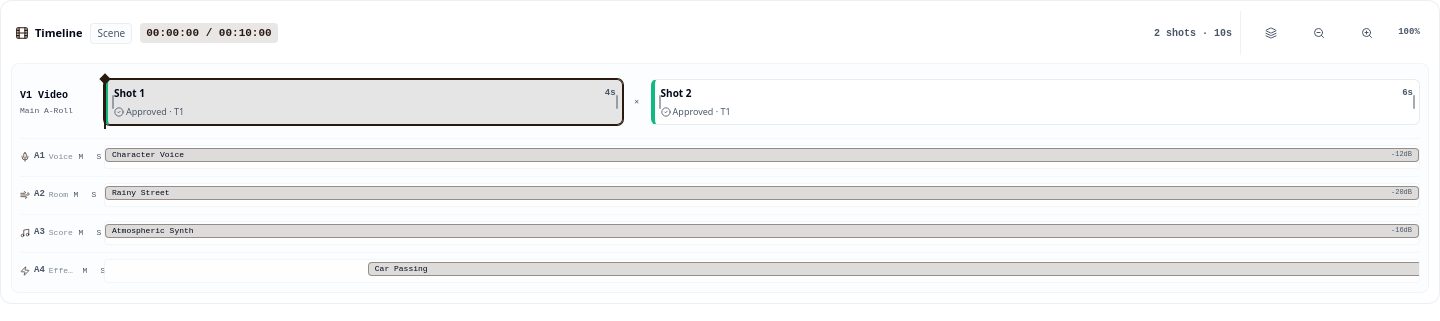
Test: MediaTimelineSequencer › supports zooming in and out of the timeline
Expected: the text "100%" is shown, [1398,27,1420,37]
Click the button named "Zoom In". click: (1367, 33)
box: [1345,11,1389,55]
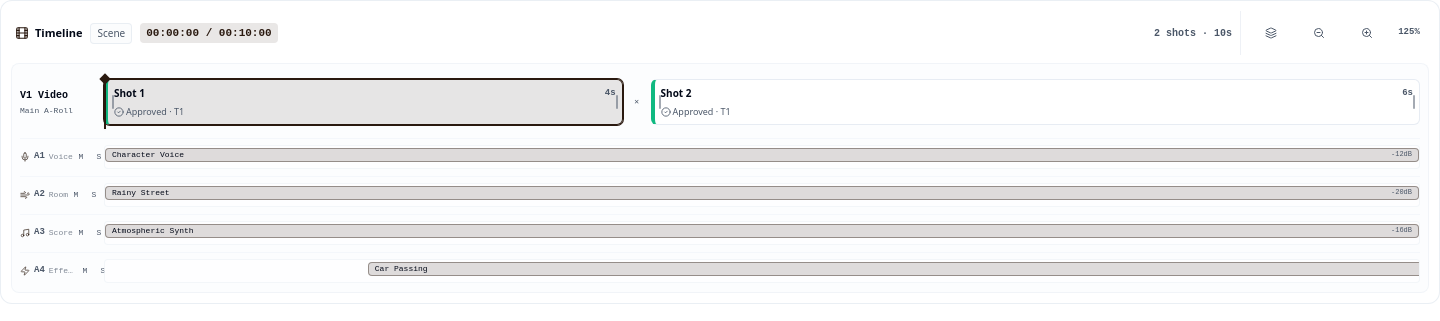
Expected: the text "125%" is shown, [1398,27,1420,37]
Click the button named "Zoom Out". click: (1319, 33)
box: [1297,11,1341,55]
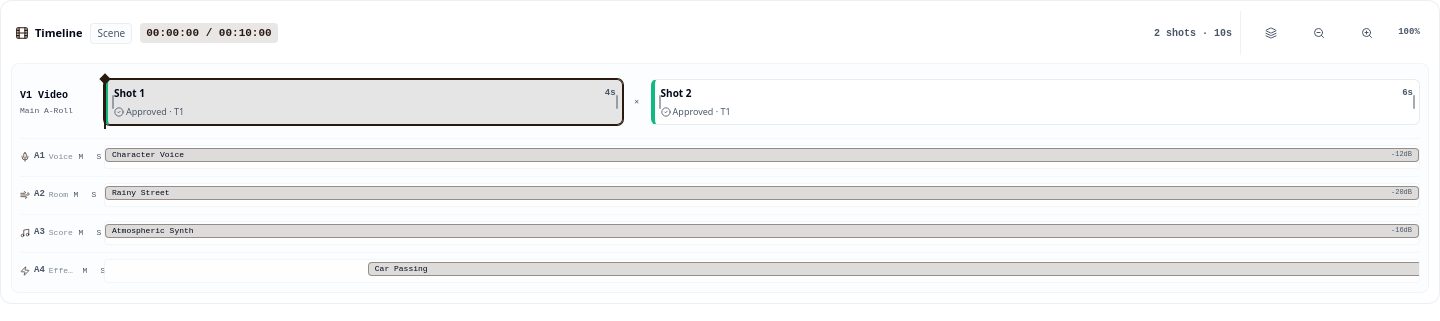
Expected: the text "100%" is shown, [1398,27,1420,37]
